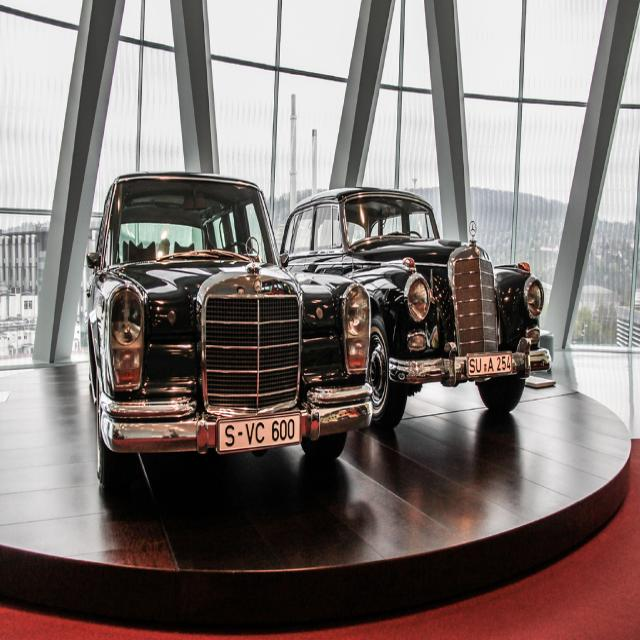car: (74, 170, 356, 483)
